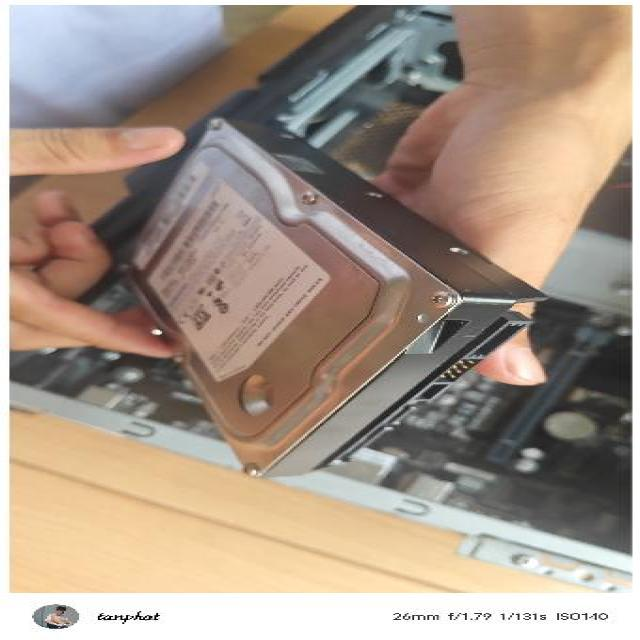DISK: (105, 110, 558, 485)
